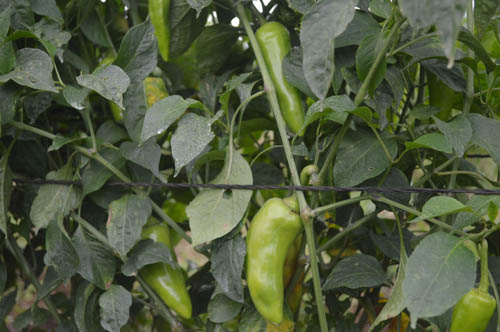ChiliPepper: (241, 200, 302, 326), (140, 220, 193, 318), (259, 25, 303, 138), (453, 291, 491, 331), (148, 1, 171, 61)
